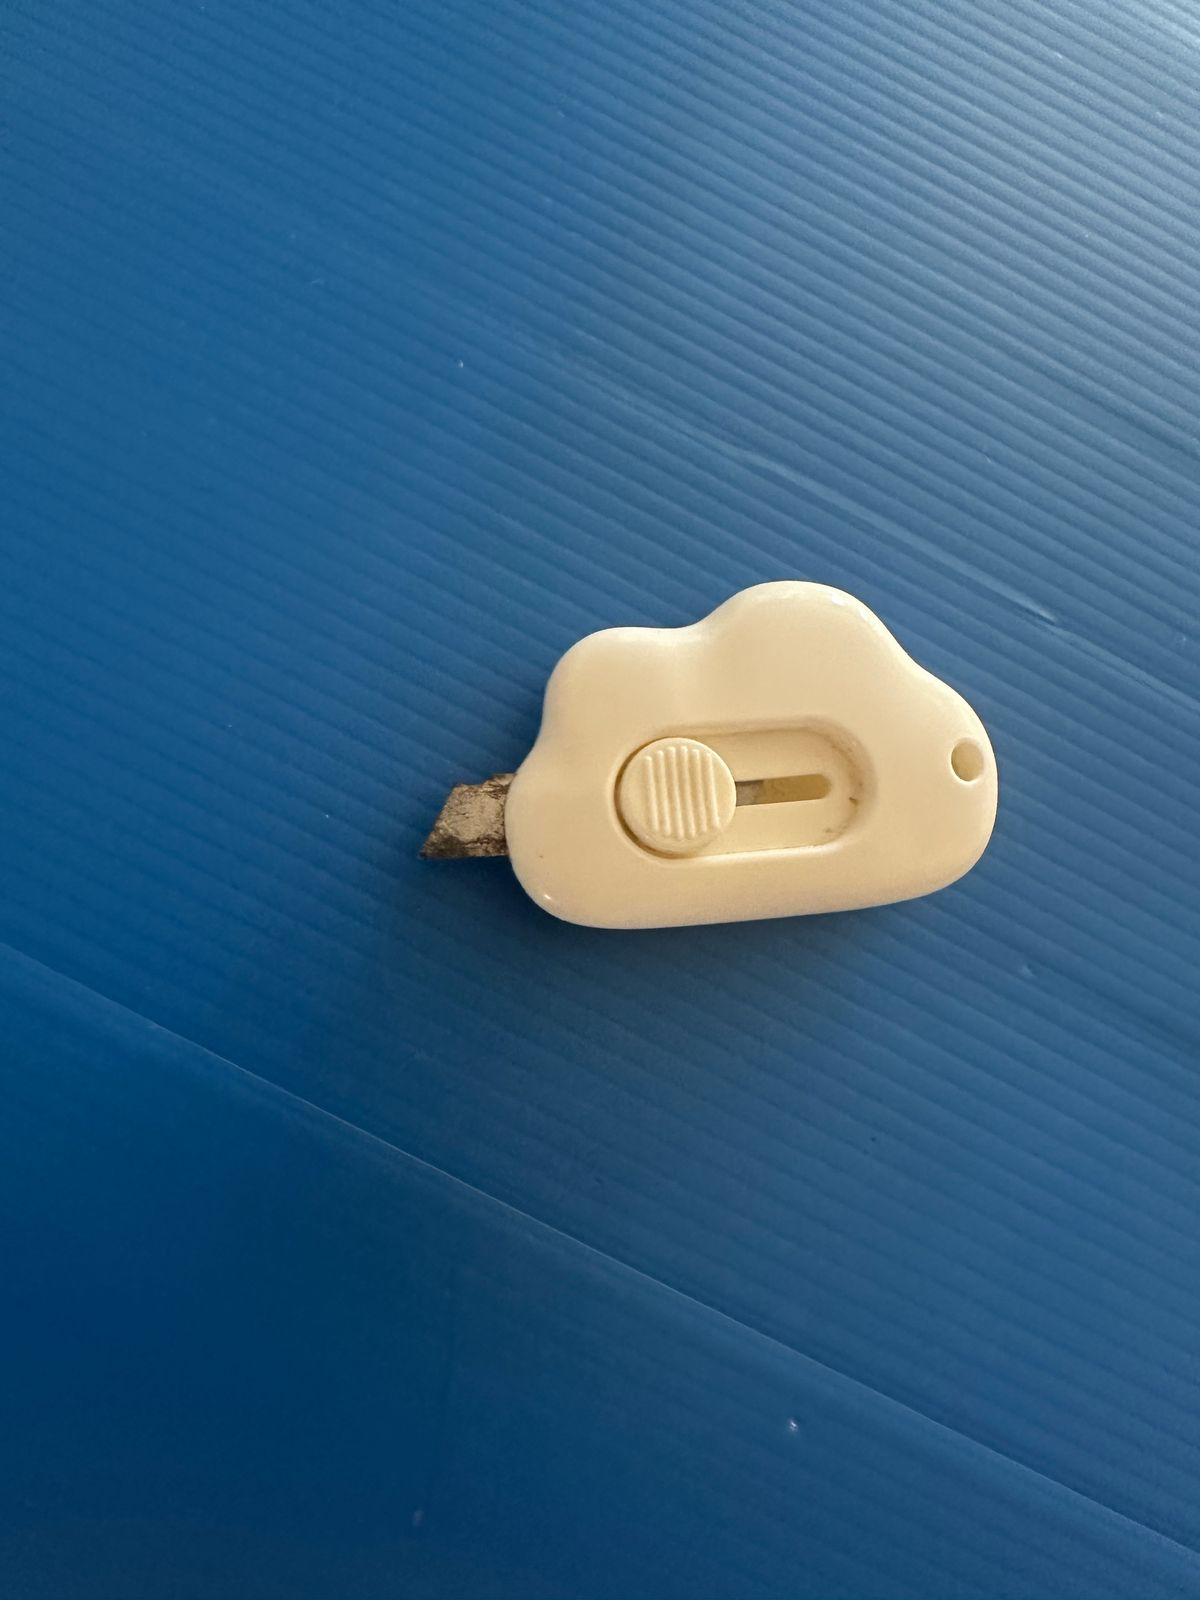estilete: (366, 761, 567, 889)
